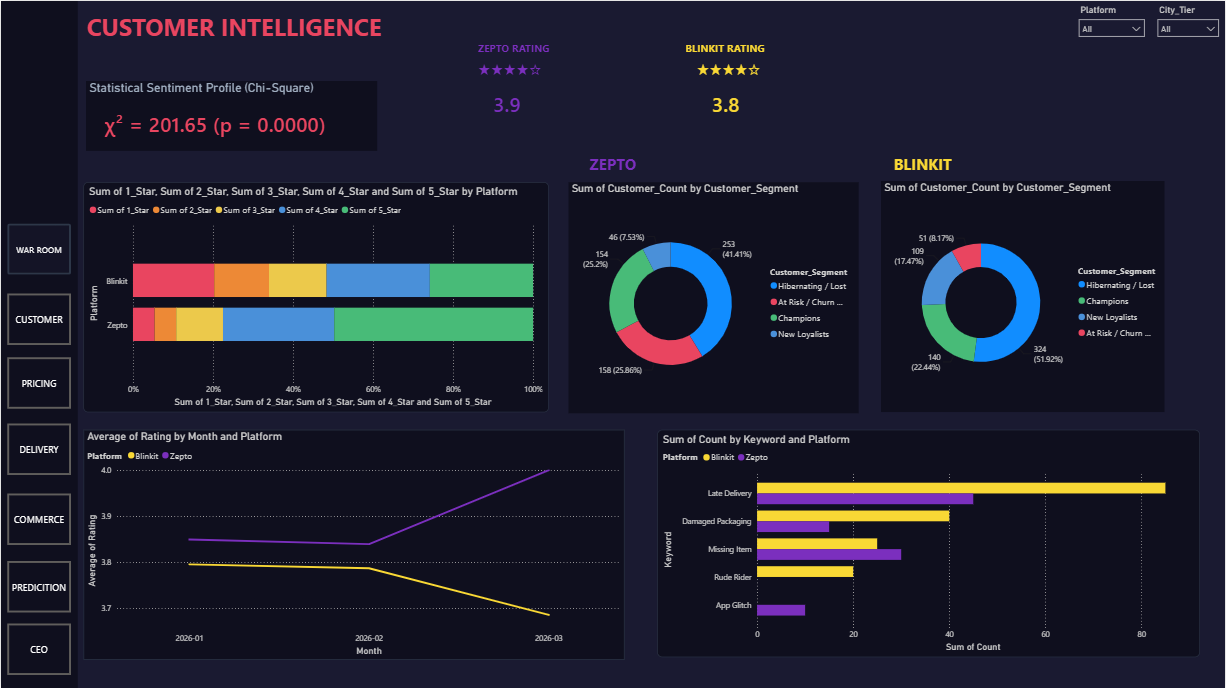

This screenshot's page, from the dashboard's own definition file:
{"tool":"powerbi","page":{"name":"02 Customer Intelligence","canvas":[1920,1080],"ordinal":1},"visuals":[{"type":"shape","box":[0,0,120,1080],"z":0},{"type":"shape","box":[0,0,120,1080],"z":1000},{"type":"slicer","fields":{"Values":["3_delivery_ops_cleaned.City_Tier"]},"box":[1803.3,0,116.7,66.7],"z":2000},{"type":"slicer","fields":{"Values":["3_delivery_ops_cleaned.Platform"]},"box":[1680,0,123.3,66.7],"z":3000},{"type":"hundredPercentStackedBarChart","fields":{"Category":["phase4_rating_contingency.Platform"],"Y":["Sum(phase4_rating_contingency.1_Star)","Sum(phase4_rating_contingency.2_Star)","Sum(phase4_rating_contingency.3_Star)","Sum(phase4_rating_contingency.4_Star)","Sum(phase4_rating_contingency.5_Star)"]},"box":[129.4,284.3,729.4,360.8],"z":4000},{"type":"donutChart","fields":{"Category":["phase5_customer_rfm.Customer_Segment"],"Y":["Sum(phase5_customer_rfm.Customer_Count)"]},"box":[890.2,284.3,454.9,362],"z":5000},{"type":"textbox","box":[890.2,235.3,139.2,49],"z":6000},{"type":"donutChart","fields":{"Category":["phase5_customer_rfm.Customer_Segment"],"Y":["Sum(phase5_customer_rfm.Customer_Count)"]},"box":[1380.4,282.4,445.1,362.7],"z":7000},{"type":"textbox","box":[1380.4,235.3,131.4,47.1],"z":8000},{"type":"cardVisual","title":"Statistical Sentiment Profile (Chi-Square)","fields":{"Data":["Min(phase5_chisquare_results.Chi_Square_KPI_String)"]},"box":[133.3,125.5,456.9,109.8],"z":9000},{"type":"lineChart","fields":{"Category":["1_customer_reviews_cleaned.Month"],"Y":["Avg(1_customer_reviews_cleaned.Rating)"],"Series":["1_customer_reviews_cleaned.Platform"]},"box":[129.4,672.5,849,360.8],"z":10000},{"type":"textbox","box":[129.4,9.8,800,64.7],"z":11000},{"type":"cardVisual","title":"★★★★☆","fields":{"Data":["Avg(1_customer_reviews_cleaned.Rating)"]},"box":[743.1,90.2,115.7,115.7],"z":12000},{"type":"cardVisual","title":"★★★★☆","fields":{"Data":["Avg(1_customer_reviews_cleaned.Rating)"]},"box":[1086.3,90.2,115.7,115.7],"z":13000},{"type":"clusteredBarChart","fields":{"Series":["phase5_complaint_themes.Platform"],"Category":["phase5_complaint_themes.Keyword"],"Y":["Sum(phase5_complaint_themes.Count)"]},"box":[1029.4,672.5,851,356.9],"z":14000},{"type":"actionButton","box":[9.6,459.6,100,80.8],"z":15000},{"type":"actionButton","box":[9.6,559.6,100,80.8],"z":16000},{"type":"actionButton","box":[9.6,663.5,100,80.8],"z":17000},{"type":"actionButton","box":[9.6,773.1,100,80.8],"z":18000},{"type":"actionButton","box":[9.6,878.8,100,80.8],"z":19000},{"type":"actionButton","box":[9.6,976.9,100,80.8],"z":20000},{"type":"actionButton","box":[9.8,349,100,80.4],"z":21000},{"type":"textbox","box":[743.1,56.9,129.4,51],"z":22000},{"type":"textbox","box":[1068.6,56.9,149,33.3],"z":23000}]}

Visuals, with their boxes in screenshot pixels (x1, y1, x2, y2), scaled from the page's 1920x1080 canvas onto the 1226x688 screenshot:
shape: (x1=0, y1=0, x2=77, y2=687)
shape: (x1=0, y1=0, x2=77, y2=687)
slicer - 3_delivery_ops_cleaned.City_Tier: (x1=1151, y1=0, x2=1225, y2=42)
slicer - 3_delivery_ops_cleaned.Platform: (x1=1073, y1=0, x2=1151, y2=42)
hundredPercentStackedBarChart - phase4_rating_contingency.Platform x Sum(phase4_rating_contingency.1_Star): (x1=83, y1=181, x2=548, y2=411)
donutChart - phase5_customer_rfm.Customer_Segment x Sum(phase5_customer_rfm.Customer_Count): (x1=568, y1=181, x2=859, y2=412)
textbox: (x1=568, y1=150, x2=657, y2=181)
donutChart - phase5_customer_rfm.Customer_Segment x Sum(phase5_customer_rfm.Customer_Count): (x1=881, y1=180, x2=1166, y2=411)
textbox: (x1=881, y1=150, x2=965, y2=180)
"Statistical Sentiment Profile (Chi-Square)" cardVisual: (x1=85, y1=80, x2=377, y2=150)
lineChart - 1_customer_reviews_cleaned.Month x Avg(1_customer_reviews_cleaned.Rating): (x1=83, y1=428, x2=625, y2=658)
textbox: (x1=83, y1=6, x2=593, y2=47)
"★★★★☆" cardVisual: (x1=475, y1=57, x2=548, y2=131)
"★★★★☆" cardVisual: (x1=694, y1=57, x2=768, y2=131)
clusteredBarChart - phase5_complaint_themes.Platform x phase5_complaint_themes.Keyword: (x1=657, y1=428, x2=1201, y2=656)
actionButton: (x1=6, y1=293, x2=70, y2=344)
actionButton: (x1=6, y1=356, x2=70, y2=408)
actionButton: (x1=6, y1=423, x2=70, y2=474)
actionButton: (x1=6, y1=492, x2=70, y2=544)
actionButton: (x1=6, y1=560, x2=70, y2=611)
actionButton: (x1=6, y1=622, x2=70, y2=674)
actionButton: (x1=6, y1=222, x2=70, y2=274)
textbox: (x1=475, y1=36, x2=557, y2=69)
textbox: (x1=682, y1=36, x2=777, y2=57)
